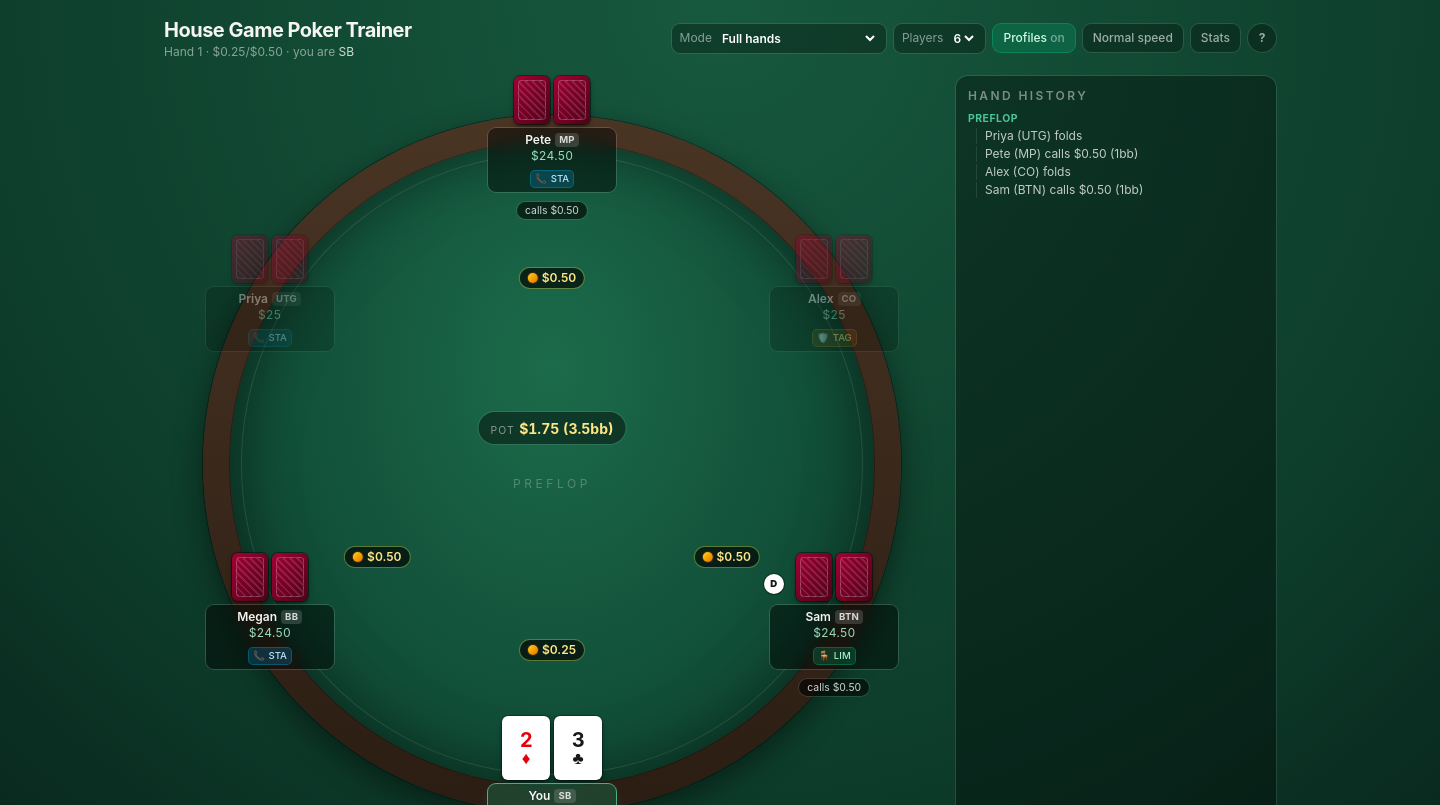
Test: help panel and settings memory › explains positions, pot odds, grading, opponents and the house rules
Expected: the dropdown named "Table size" is shown, [949, 30, 977, 46]
What coordinates should you click on to do the following:
click the button named "Help"
I would click on:
 (1262, 38)
Its box is [1248, 24, 1276, 52].
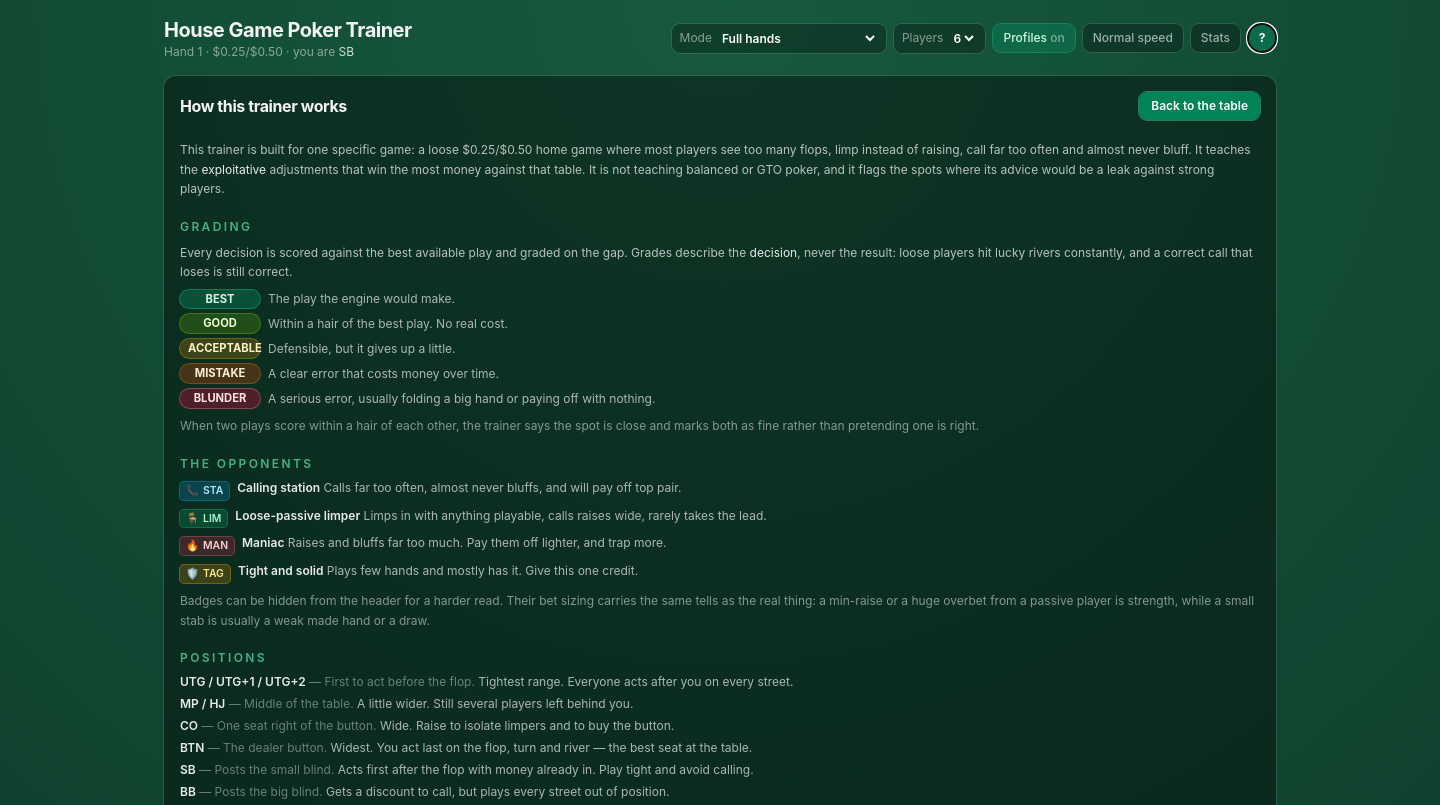
Expected: the heading "How this trainer works" is shown, [180, 94, 347, 118]
Expected: the heading "Grading" is shown, [180, 218, 252, 234]
Expected: the heading "Positions" is shown, [180, 650, 267, 665]
What coordinates should you click on to do the following:
click the button "Back to the table"
I would click on:
 (1200, 106)
Its box is [1139, 92, 1260, 120].
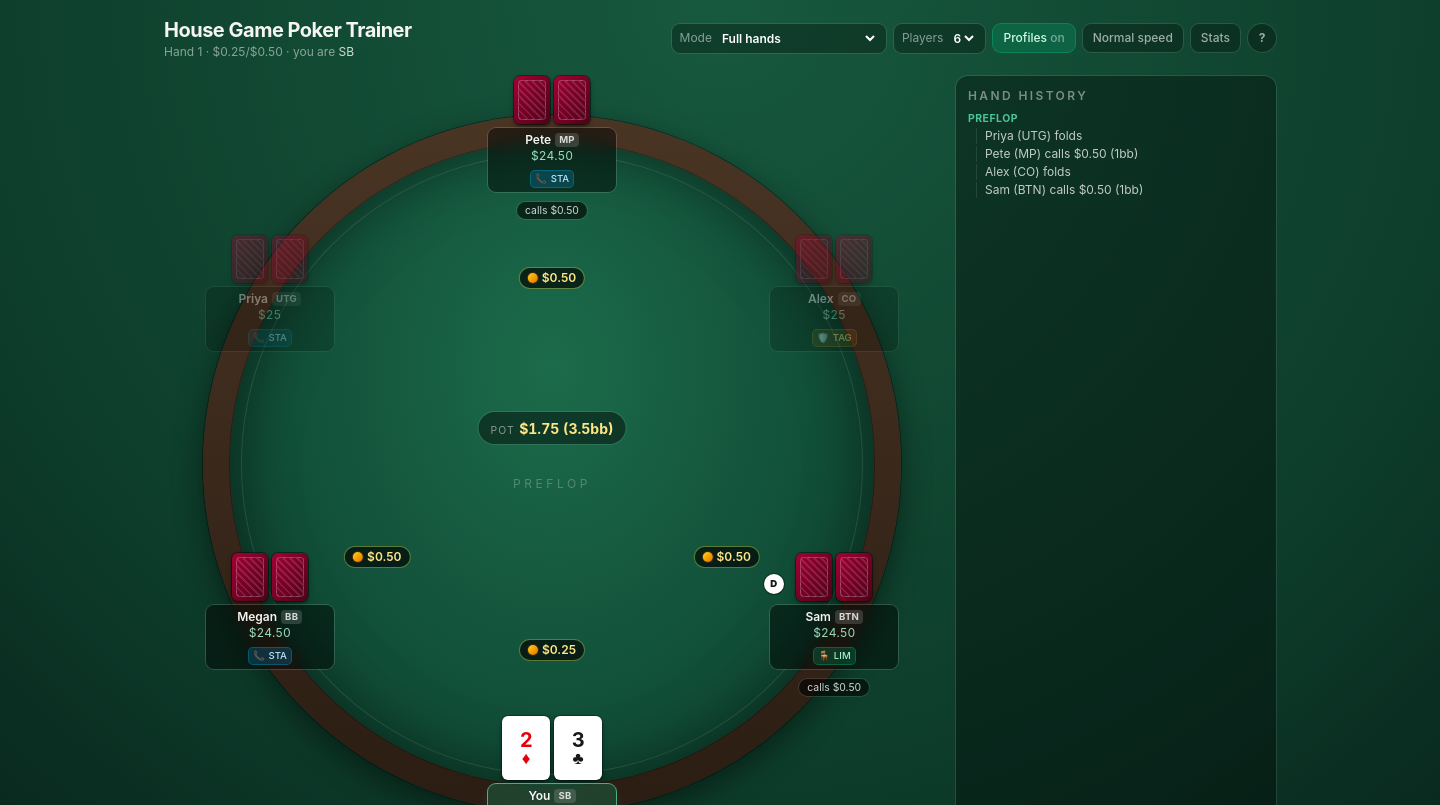
Expected: the heading "How this trainer works" is gone
